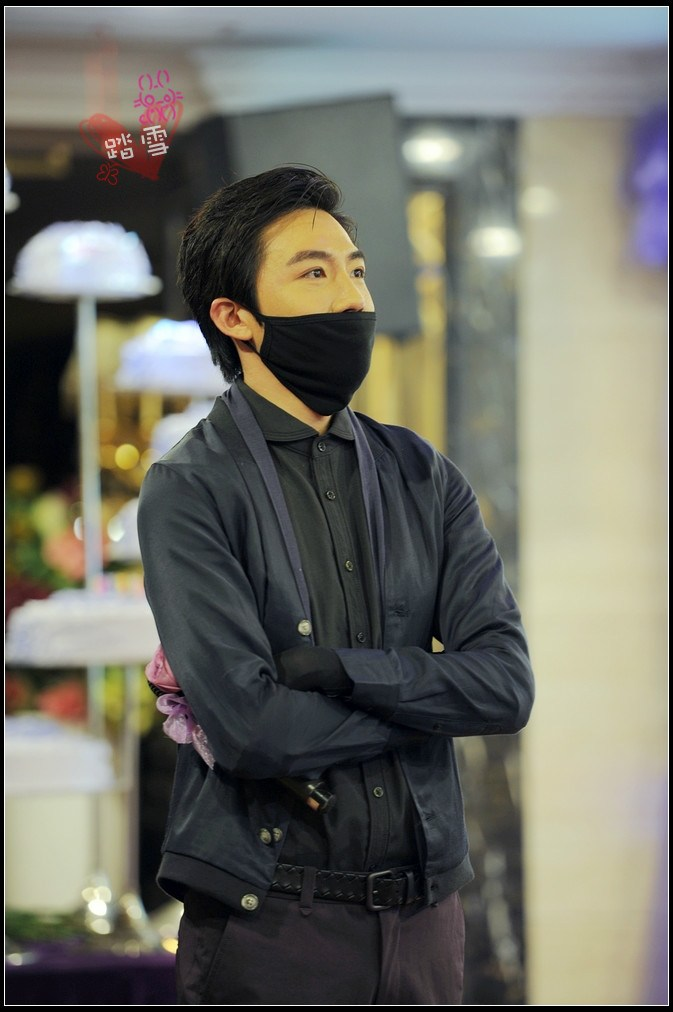face_mask: (251, 193, 375, 398)
